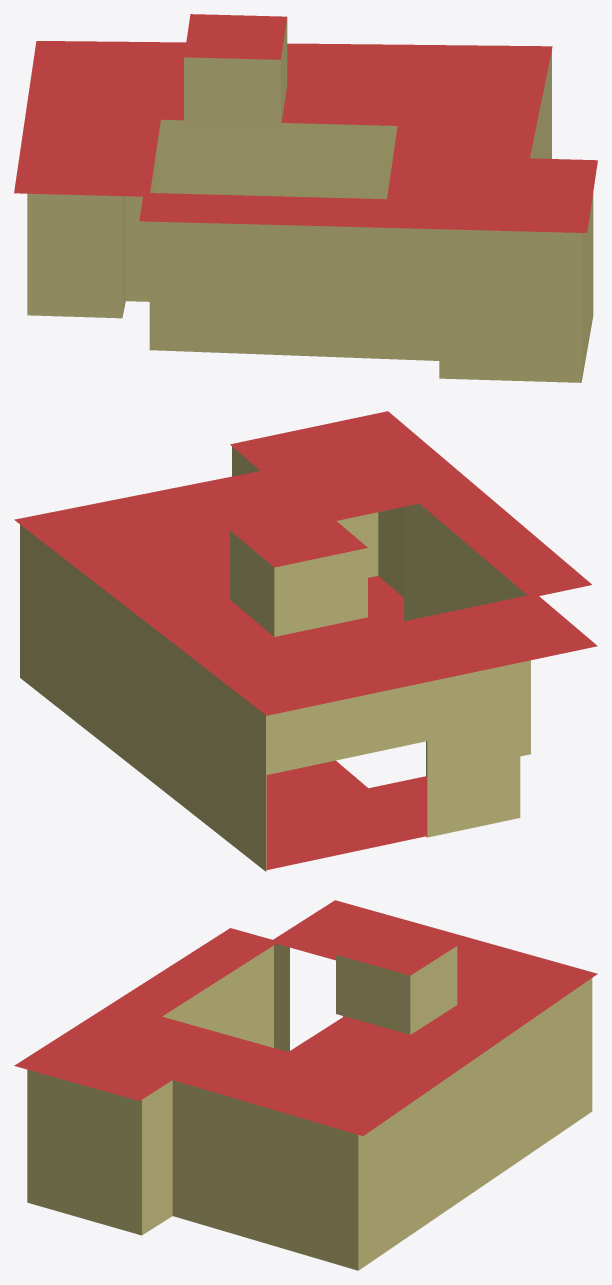
3 renders of one model, top to bottom at view 1: azimuth 30°, elevation 25°; view 2: azimuth 150°, elevation 25°; view 3: azimuth 270°, elevation 25°, orthographic. The views are drawn at different scales.
Parts seen in each view (by area): view 1: group_7, group_3, group_5, group_4; view 2: group_7, group_3, group_8, group_5, group_4; view 3: group_7, group_3, group_5, group_4.
Boxes of the visible parts, x1,y1,x2,y2 form: group_7: (27,50,593,382); group_3: (14,41,597,232); group_5: (184,18,287,127); group_4: (184,14,287,59); group_7: (20,446,530,871); group_3: (14,411,597,715); group_8: (266,576,427,869); group_5: (230,530,367,636); group_4: (230,510,367,567); group_7: (27,944,592,1270); group_3: (14,900,597,1135); group_5: (336,946,457,1034); group_4: (336,925,456,975).
Size of the model in its own units: 31.68 by 33.12 by 12.21.
